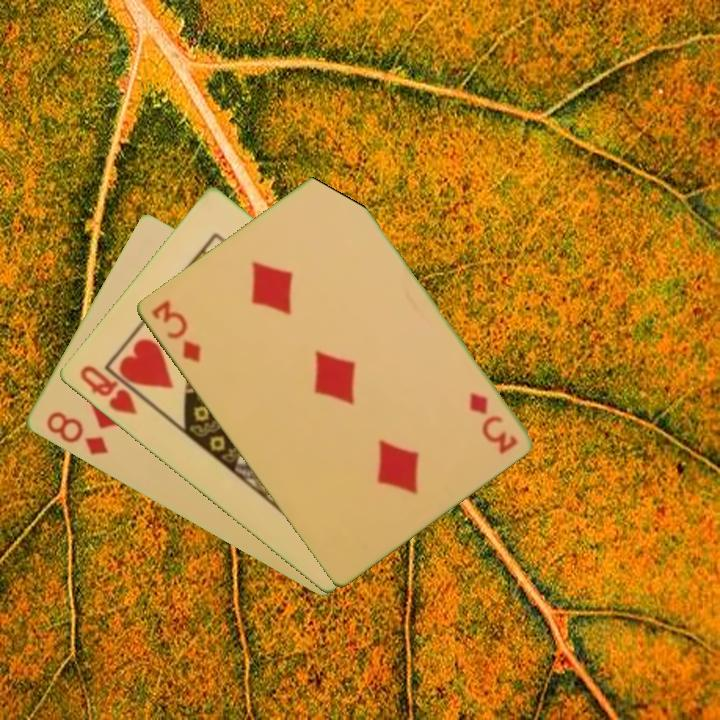3d: (147, 296, 204, 366), (464, 388, 521, 457)
8d: (42, 407, 111, 459)
Qh: (75, 361, 140, 418)
